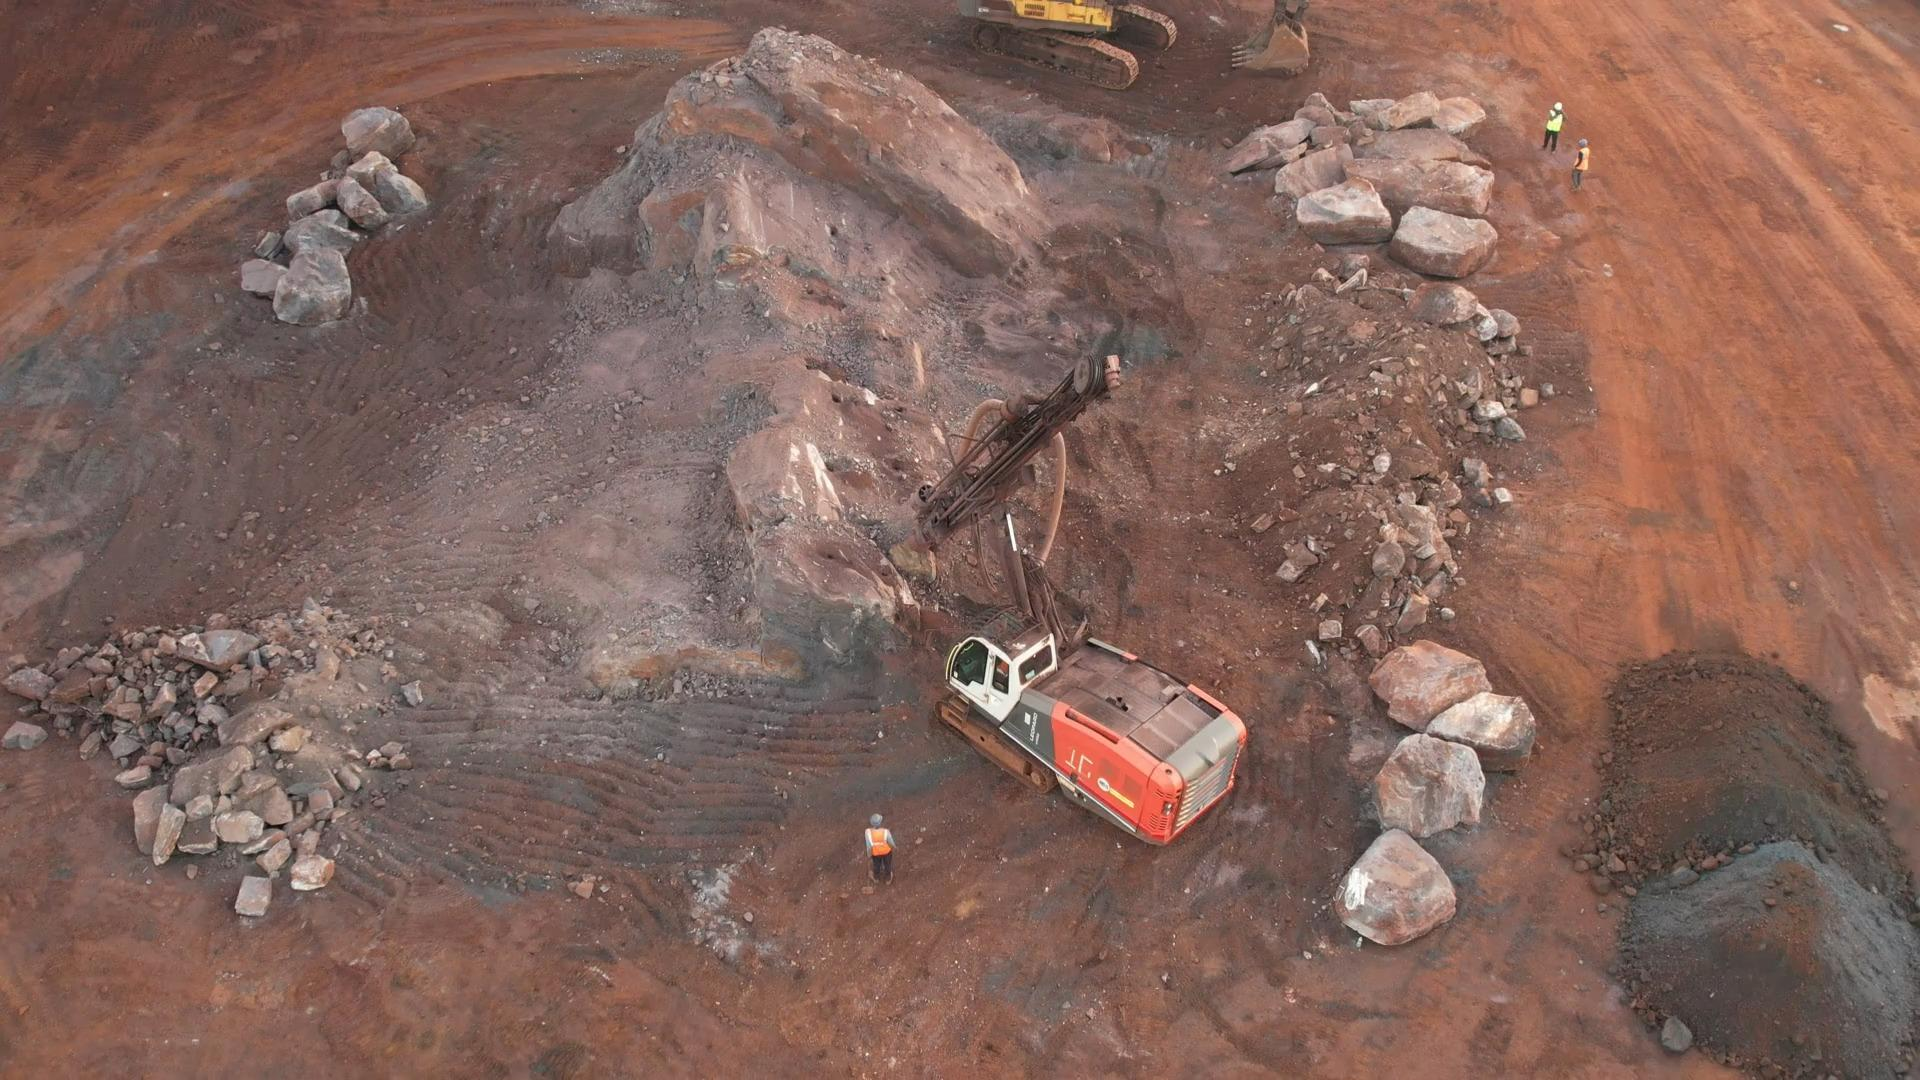excavator: (951, 0, 1318, 89)
